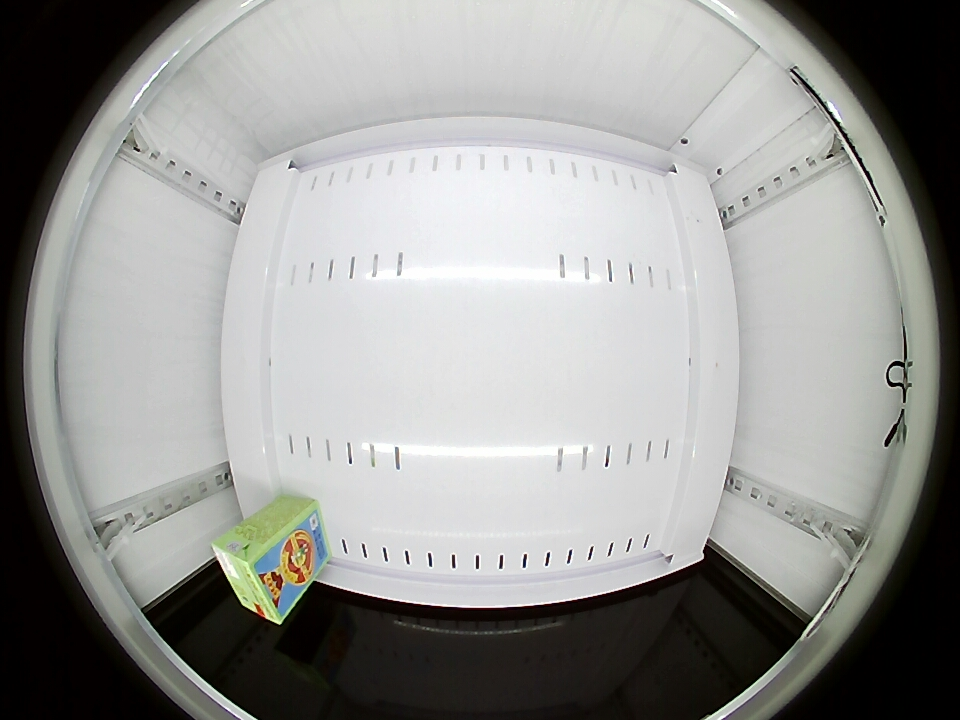wanglaoji: (211, 526, 297, 625)
